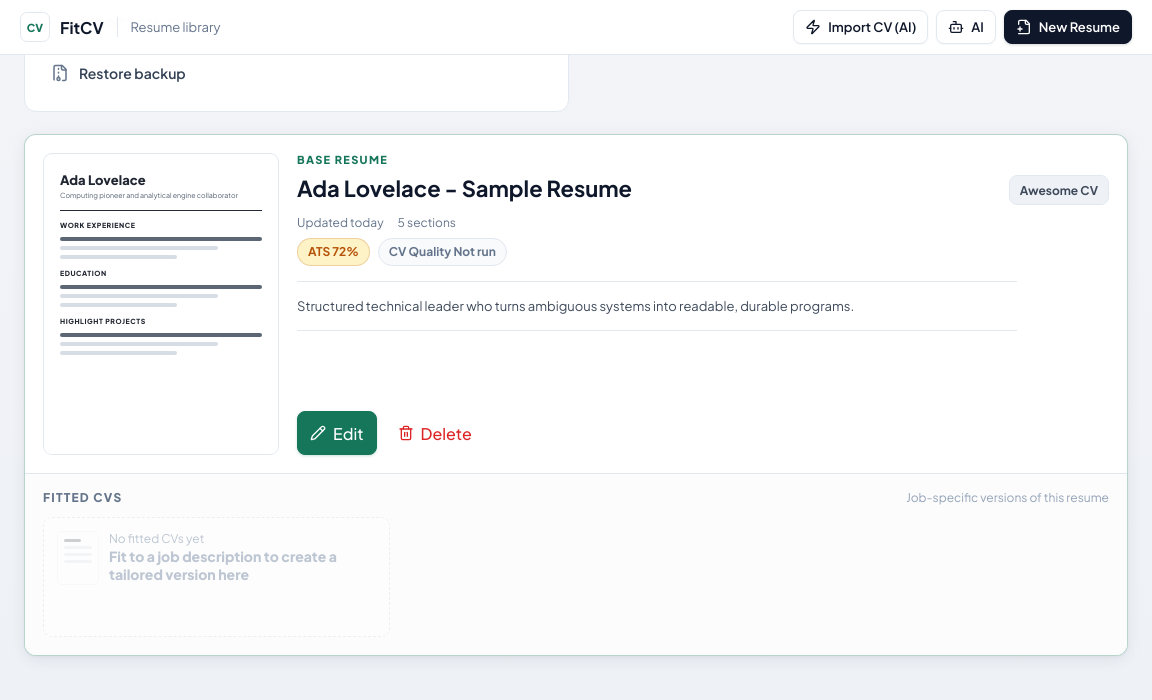
Scenario: FitCV UI shell › shows Awesome CV as a FitCV layout with module controls in the editor
This screenshot has width=1152, height=700.
(page scrolled)
Click the button "Edit". click: (337, 433)
box: [297,411,376,455]
(page scrolled)
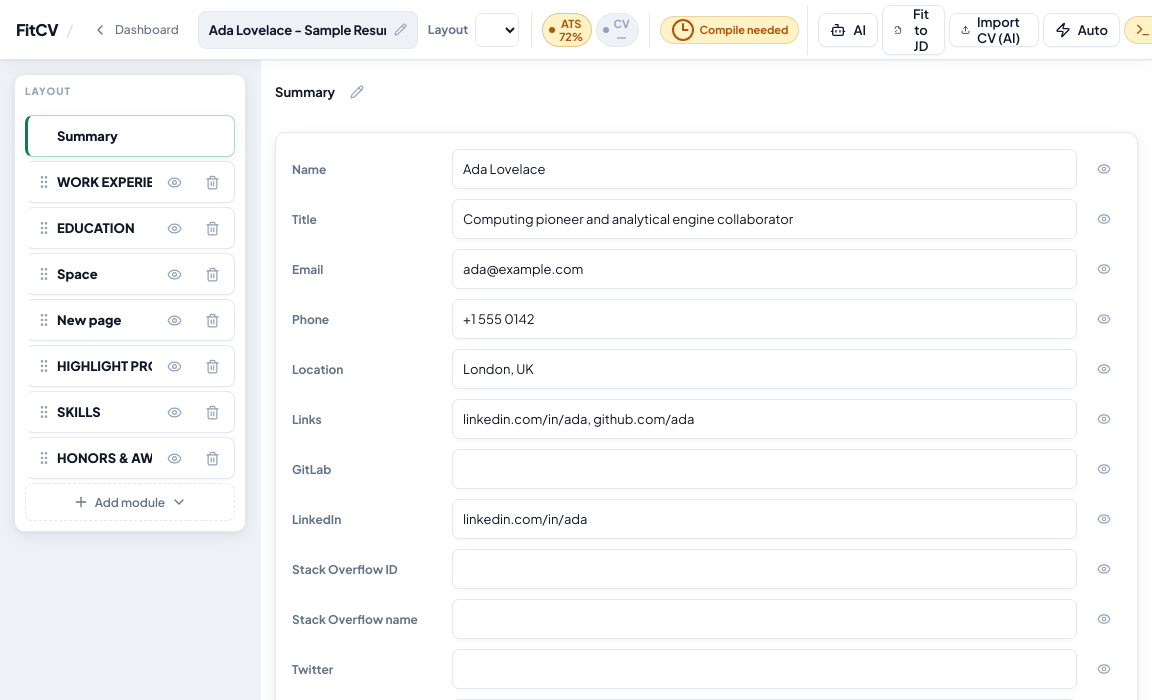
Now the dropdown labelled "Layout" shows "Awesome CV", box [475,12,519,46]
Now the button "Summary" is shown, box [56,119,229,153]
Now the text "Disable Summary" is gone
Click the button "Space". click: (104, 274)
box: [56,257,153,291]
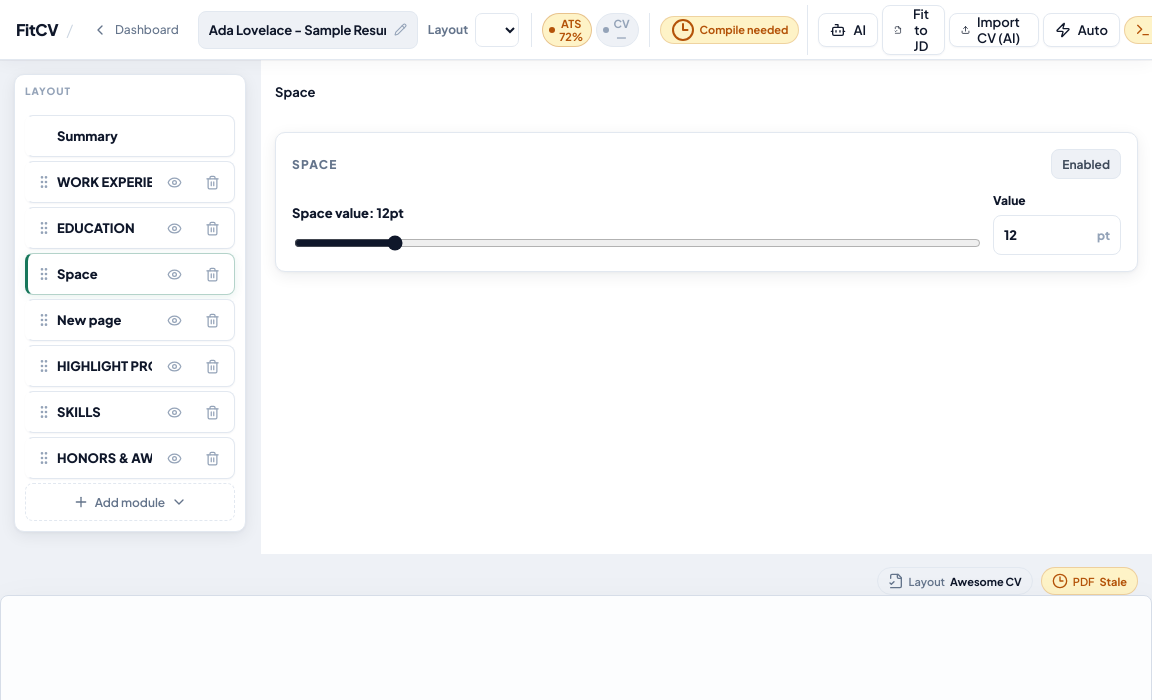
Now the number field named "Space value in points" holds "12"
Replace the text in the number field named "Space value in points" with "24". click: (1046, 235)
box: [994,216,1097,254]
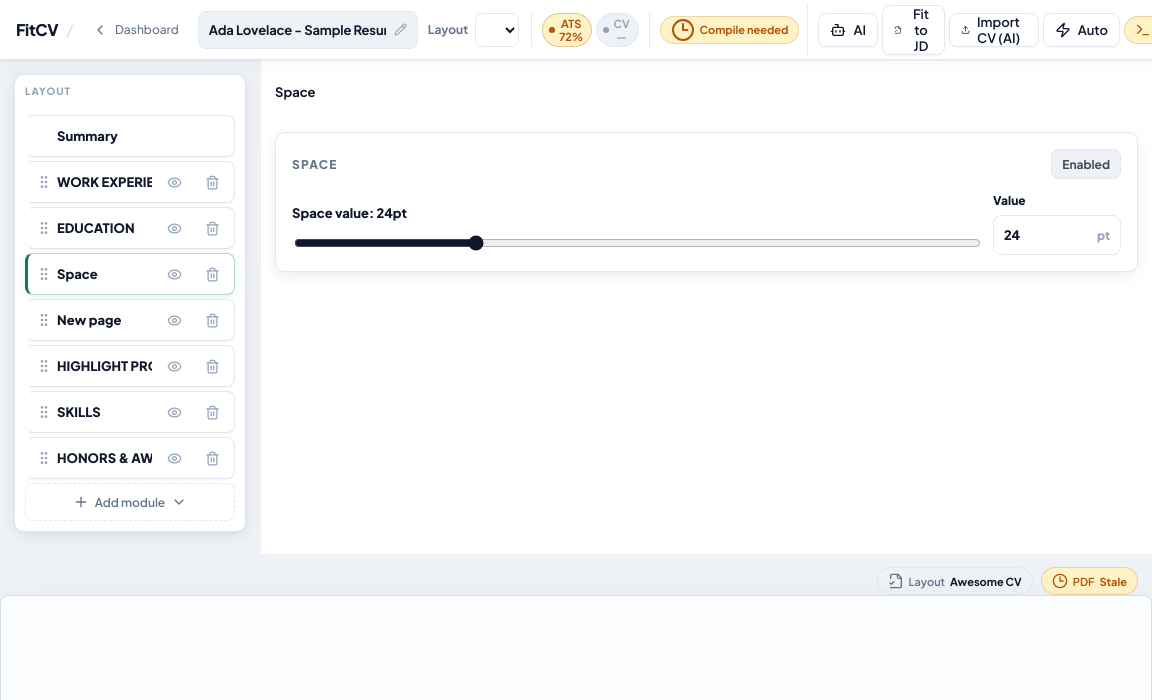
Click the button "New page". click: (104, 320)
box: [56,303,153,337]
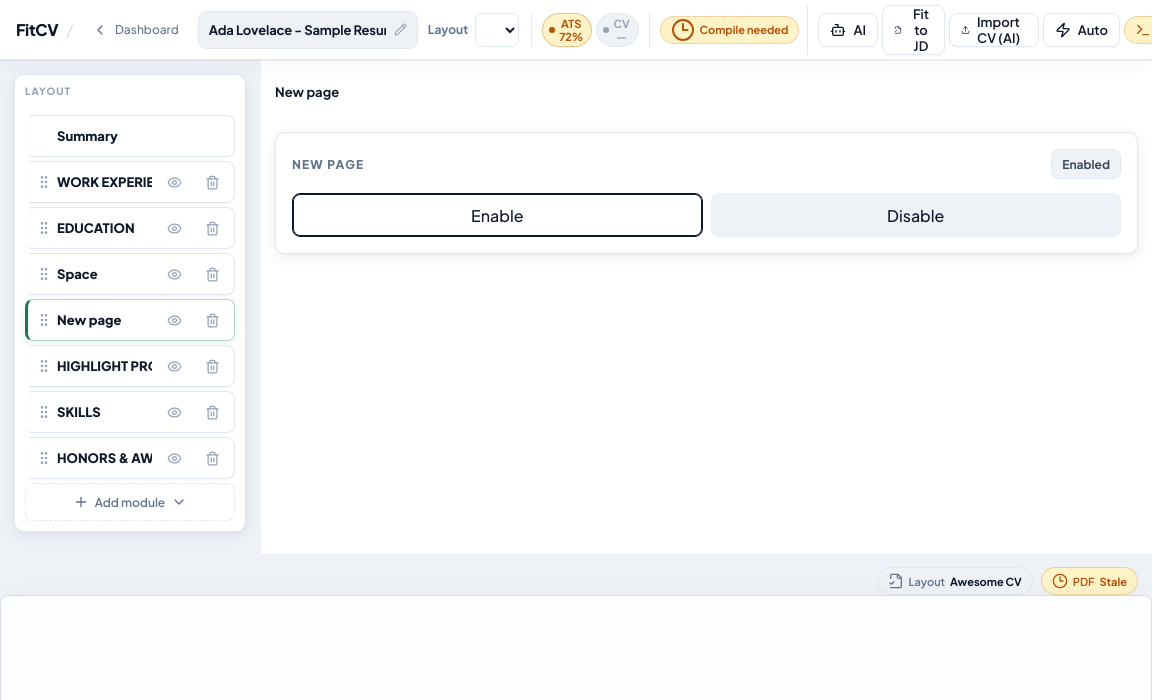
Now the text "Enabled" is shown, box [1051,149,1121,179]
Now the heading "New page" is shown, box [292,156,364,172]
